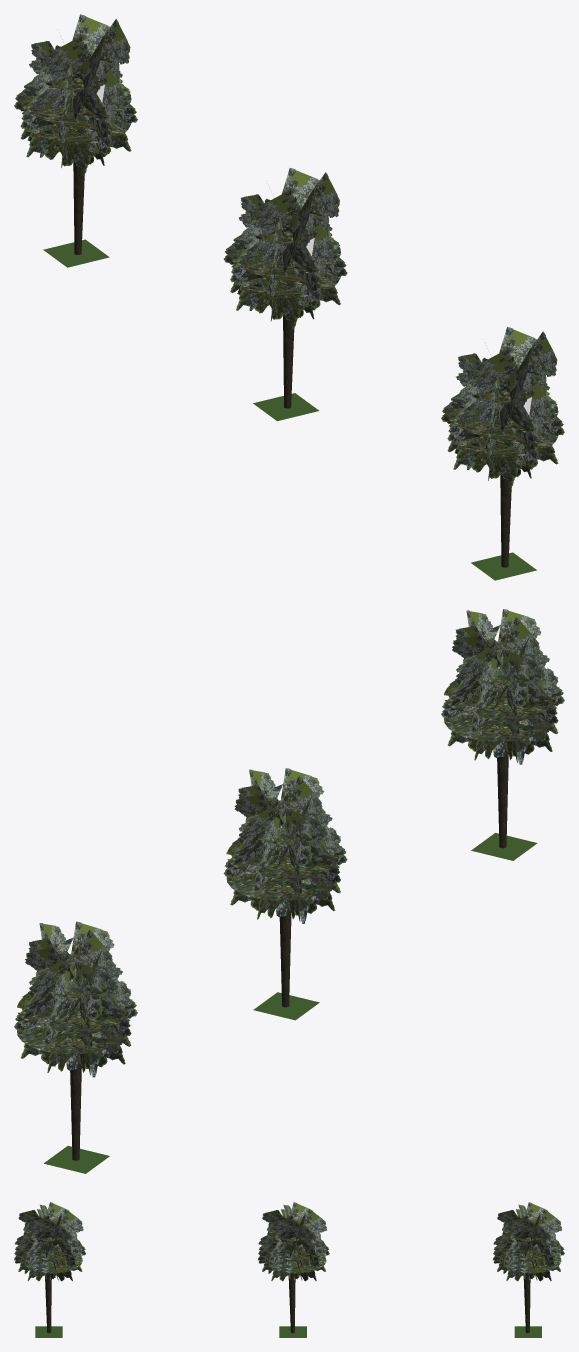
The model's file is trees.obj.
3 renders of one model, top to bottom at view 1: azimuth 30°, elevation 25°; view 2: azimuth 150°, elevation 25°; view 3: azimuth 270°, elevation 25°, orthographic. The views are drawn at different scales.
Visible parts, largest first — view 1: Mesh46 Model, Mesh5 Model, Mesh25 Model, Mesh54 Model, Mesh41 Model, Mesh10 Model, Mesh30 Model, Mesh48 Model, Mesh7 Model, Mesh63 Model, Mesh37 Model, Mesh9 Model (+15 smaller); view 2: Mesh46 Model, Mesh25 Model, Mesh5 Model, Mesh7 Model, Mesh48 Model, Mesh30 Model, Mesh12 Model, Mesh56 Model, Mesh31 Model, Mesh51 Model, Mesh11 Model, Mesh29 Model (+12 smaller); view 3: Mesh46 Model, Mesh25 Model, Mesh5 Model, Mesh6 Model, Mesh40 Model, Mesh47 Model, Mesh37 Model, Mesh63 Model, Mesh9 Model, Mesh7 Model, Mesh30 Model, Mesh48 Model (+18 smaller).
Part boxes in pixels (<box>): Mesh46 Model: <box>14,45,137,167</box>; Mesh5 Model: <box>441,358,564,480</box>; Mesh25 Model: <box>224,198,347,321</box>; Mesh54 Model: <box>56,64,124,175</box>; Mesh41 Model: <box>265,218,333,329</box>; Mesh10 Model: <box>483,377,551,488</box>; Mesh30 Model: <box>228,197,340,297</box>; Mesh48 Model: <box>18,43,131,144</box>; Mesh7 Model: <box>445,356,558,456</box>; Mesh63 Model: <box>99,19,130,81</box>; Mesh37 Model: <box>308,172,339,234</box>; Mesh9 Model: <box>526,331,557,393</box>; Mesh46 Model: <box>14,952,137,1075</box>; Mesh25 Model: <box>223,798,347,921</box>; Mesh5 Model: <box>441,639,564,762</box>; Mesh7 Model: <box>444,646,556,741</box>; Mesh48 Model: <box>17,959,129,1054</box>; Mesh30 Model: <box>226,806,338,900</box>; Mesh12 Model: <box>496,617,539,729</box>; Mesh56 Model: <box>69,929,112,1041</box>; Mesh31 Model: <box>278,776,322,888</box>; Mesh51 Model: <box>66,981,132,1077</box>; Mesh11 Model: <box>493,668,559,764</box>; Mesh29 Model: <box>276,827,341,923</box>; Mesh46 Model: <box>493,1218,564,1281</box>; Mesh25 Model: <box>258,1218,329,1281</box>; Mesh5 Model: <box>14,1218,85,1281</box>; Mesh6 Model: <box>45,1209,83,1272</box>; Mesh40 Model: <box>289,1209,326,1272</box>; Mesh47 Model: <box>524,1209,561,1272</box>; Mesh37 Model: <box>270,1215,304,1249</box>; Mesh63 Model: <box>505,1216,539,1249</box>; Mesh9 Model: <box>26,1216,60,1249</box>; Mesh7 Model: <box>22,1209,82,1273</box>; Mesh30 Model: <box>266,1209,326,1273</box>; Mesh48 Model: <box>501,1209,561,1273</box>.
Size of the model in its own units: 4.72 by 9.39 by 36.11.
Materials: 4 (2 with a texture image).
